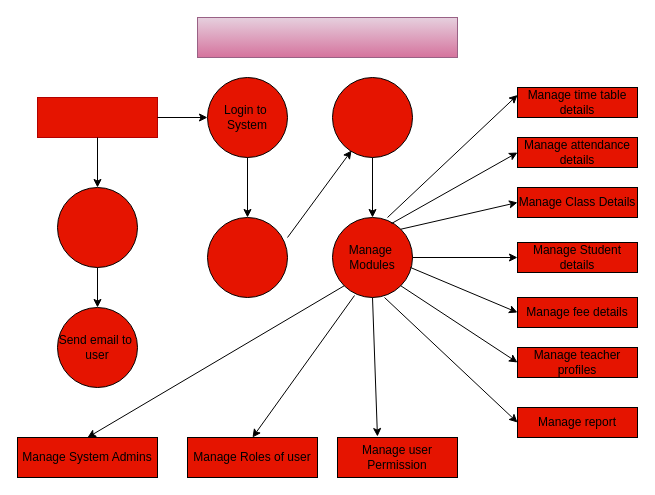
Some shapes in this 655 by 495 pixel diagram are drawn without their labels. Here are the shapes that lost their labels. From the top down, the centre of each, then its label:
At (327,37): "Student Information System".
At (97,117): "Admin".
At (372,117): "Check roles of Acess".
At (97,227): "Forgot Password".
At (247,257): "Check Credentials".
